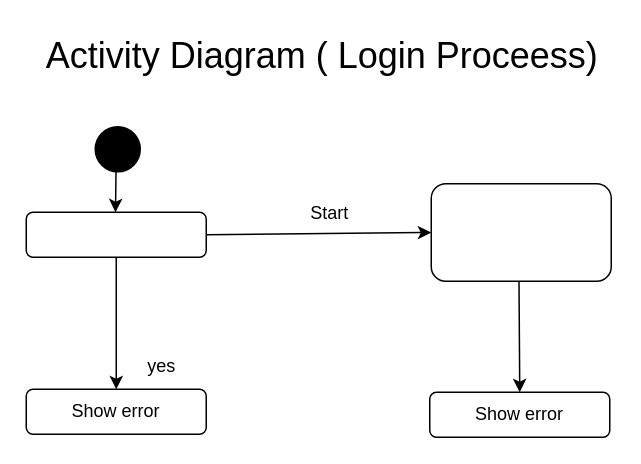
The diagram is 641 pixels wide and 464 high, and some of its shapes have lost their labels. Here are the shapes that lost their labels. From the top down, the centre of each, then its label:
point 115,234: User opens app
point 520,231: Redirect to Dashboard
